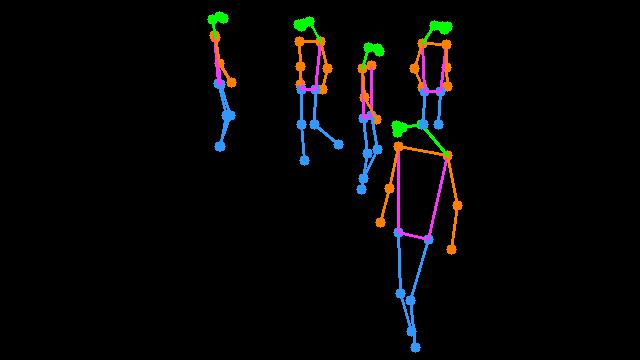normal: (368, 94, 465, 357), (286, 8, 345, 176), (348, 31, 390, 206), (199, 5, 246, 161)
